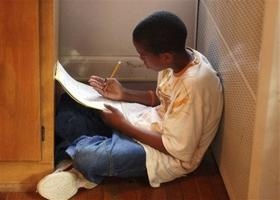person without safety: (120, 8, 218, 176)
